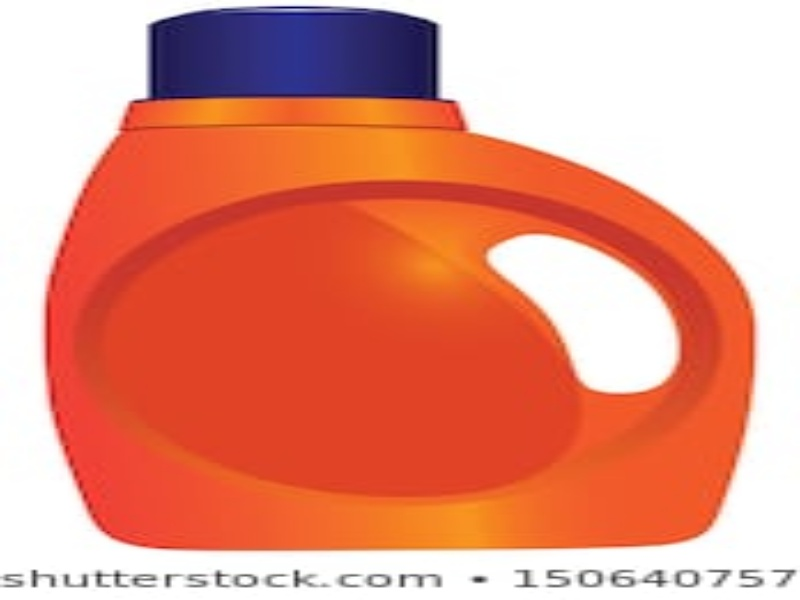bottle-cap: (41, 3, 756, 551)
